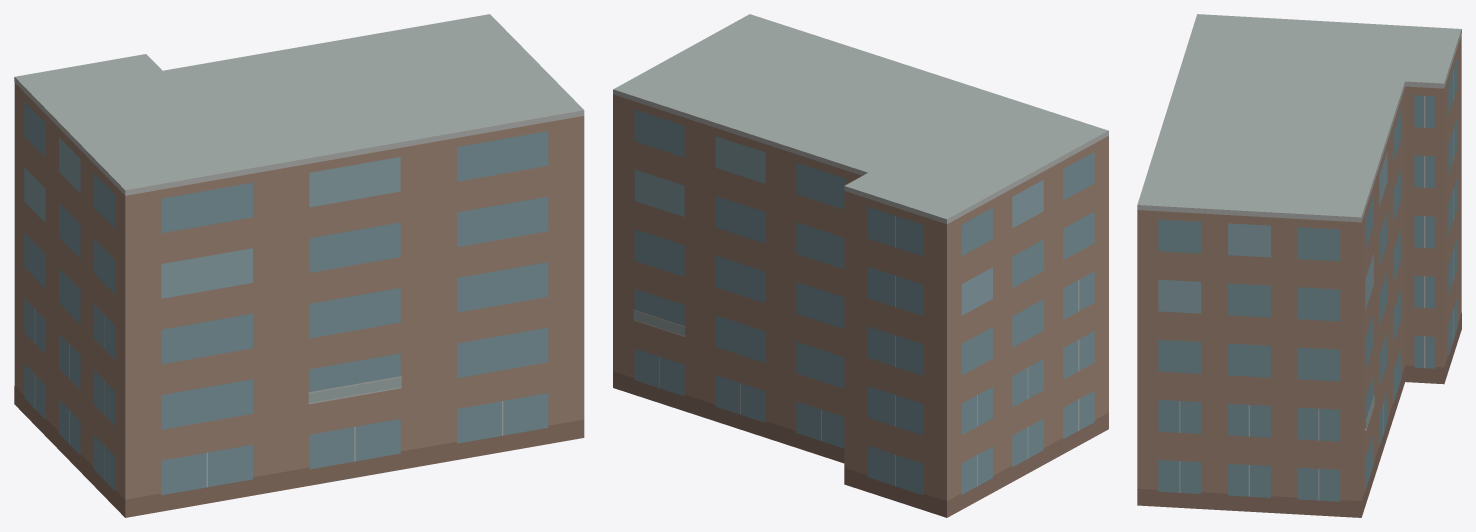
The model's file is survey-upis-32522992.glb.
3 views of the same model, side by side, from view 1: azimuth 30°, elevation 25°; view 2: azimuth 150°, elevation 25°; view 3: azimuth 270°, elevation 25° (orthographic). The views are drawn at different scales.
Visible parts, largest first — view 1: survey-upis-32522992.tmp; view 2: survey-upis-32522992.tmp; view 3: survey-upis-32522992.tmp.
Boxes of the visible parts, x1=… form: survey-upis-32522992.tmp: x1=14, y1=14, x2=584, y2=517; survey-upis-32522992.tmp: x1=613, y1=14, x2=1108, y2=517; survey-upis-32522992.tmp: x1=1137, y1=14, x2=1461, y2=517.
Bounding box in the file's own units: 21.2 × 14.6 × 14.3.
